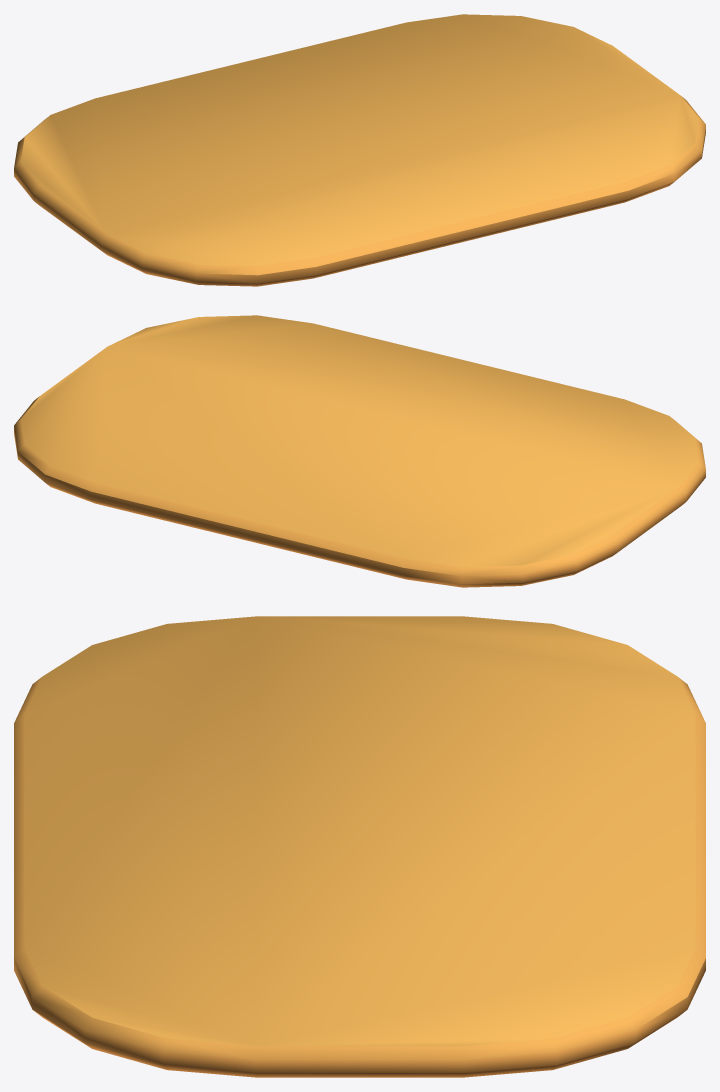
The model's file is kk_rug_oval.glb.
3 renders of one model, top to bottom at view 1: azimuth 30°, elevation 25°; view 2: azimuth 150°, elevation 25°; view 3: azimuth 270°, elevation 25°, orthographic. The views are drawn at different scales.
Visible parts, largest first — view 1: rug_oval_A; view 2: rug_oval_A; view 3: rug_oval_A.
Boxes of the visible parts, x1,y1,x2,y2 form: rug_oval_A: (14, 14, 705, 286); rug_oval_A: (14, 315, 705, 587); rug_oval_A: (14, 616, 705, 1077).
Bounding box in the file's own units: 3 × 0.1 × 2.
Materials: 1 (1 with a texture image).
